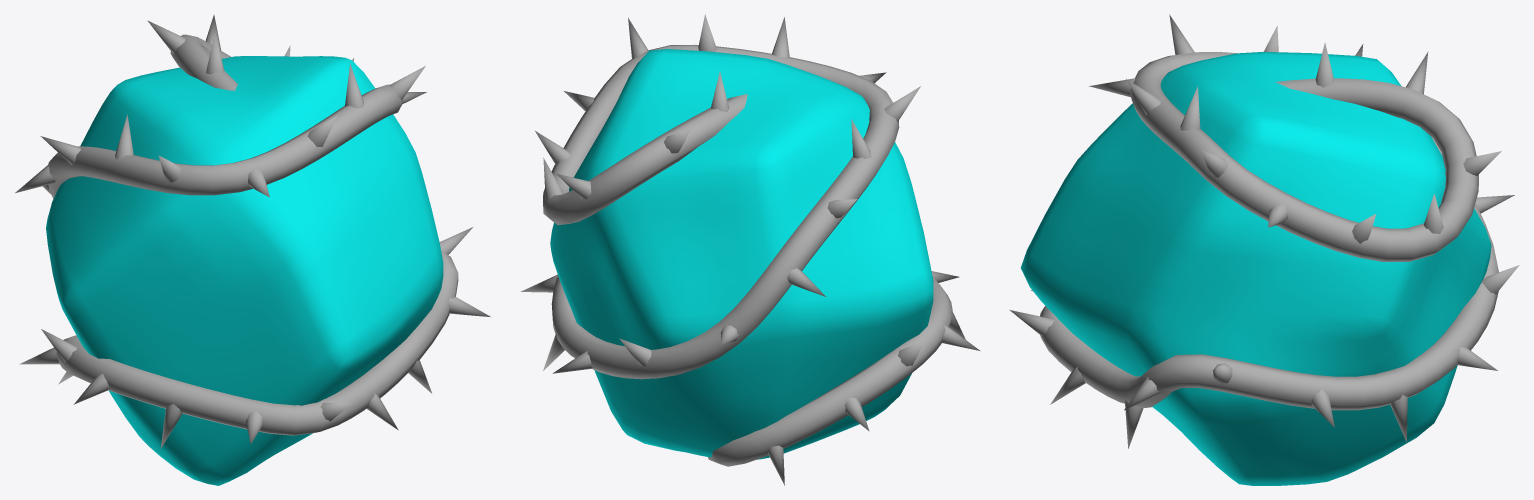
The model's file is Stone2Vined.fbx.
3 renders of one model, left to right at view 1: azimuth 30°, elevation 25°; view 2: azimuth 150°, elevation 25°; view 3: azimuth 270°, elevation 25°, orthographic. The views are drawn at different scales.
Visible parts, largest first — view 1: Stone2Vined; view 2: Stone2Vined; view 3: Stone2Vined.
Boxes of the visible parts, <box> form: Stone2Vined: <box>15,14,490,485</box>; Stone2Vined: <box>520,14,979,485</box>; Stone2Vined: <box>1009,14,1519,485</box>.
Size of the model in its own units: 125 by 113 by 127.
